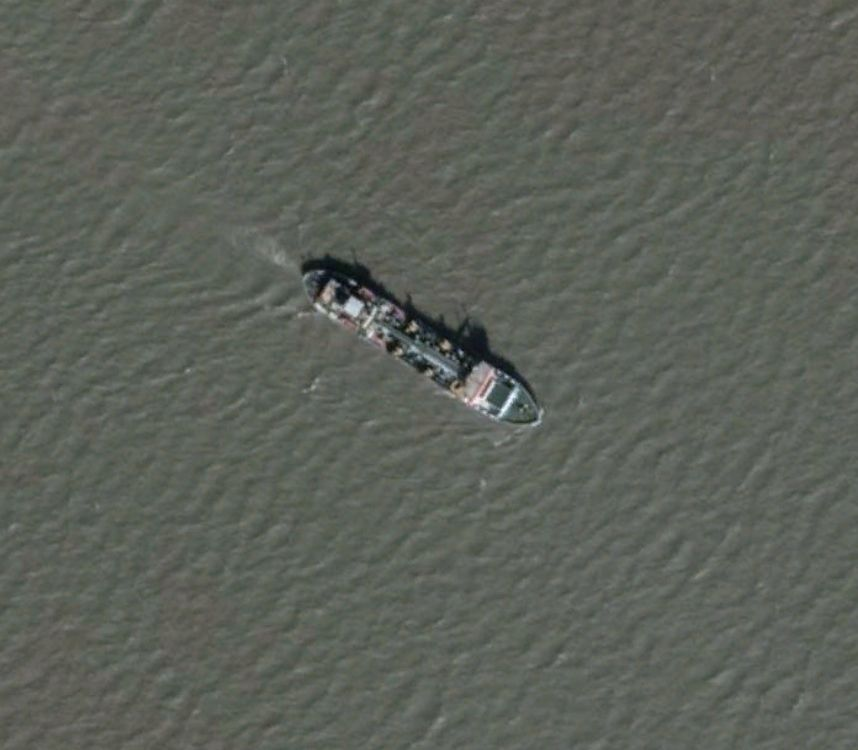boat: (296, 260, 544, 432)
